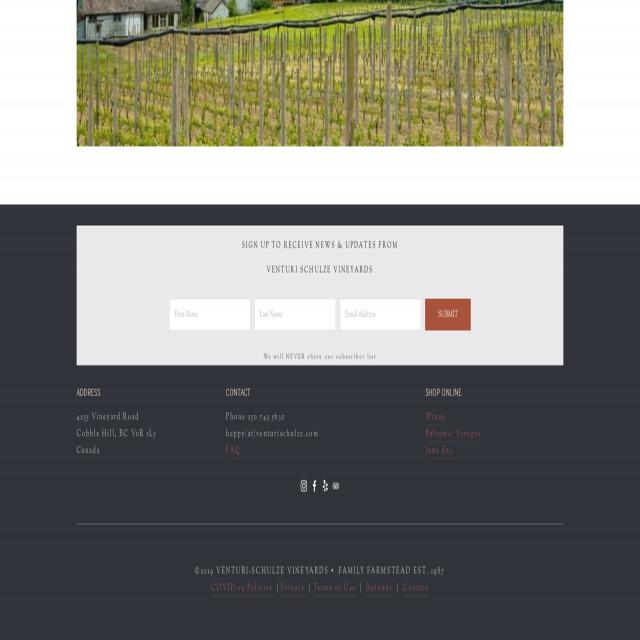button: (425, 299, 471, 331), (297, 474, 311, 498), (308, 474, 322, 498), (318, 474, 332, 498), (329, 474, 343, 498)
field: (169, 299, 251, 331), (254, 299, 336, 331), (340, 299, 421, 331)
